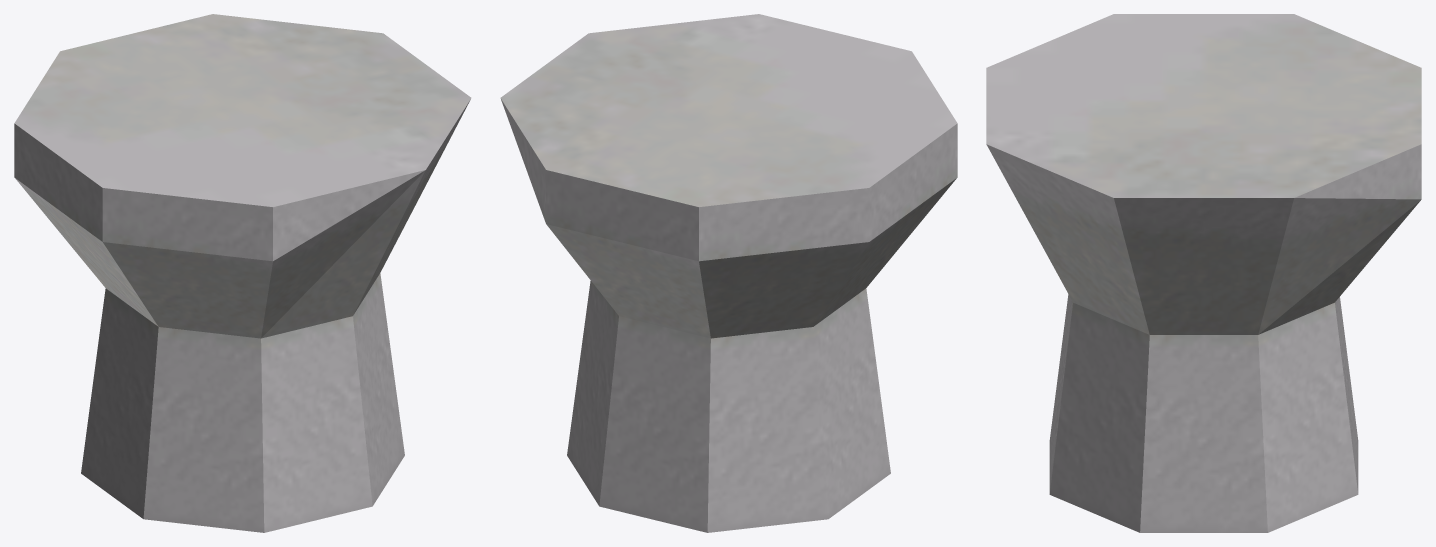
The model's file is general_obj_bigtower11_lod_01.glb.
3 renders of one model, left to right at view 1: azimuth 30°, elevation 25°; view 2: azimuth 150°, elevation 25°; view 3: azimuth 270°, elevation 25°, orthographic. The views are drawn at different scales.
Visible parts, largest first — view 1: Sphere01; view 2: Sphere01; view 3: Sphere01.
Boxes of the visible parts, left/top/right/bottom form: Sphere01: left=14, top=14, right=471, bottom=532; Sphere01: left=500, top=14, right=957, bottom=532; Sphere01: left=986, top=14, right=1421, bottom=532.
Bounding box in the file's own units: 4.31 × 3.95 × 4.31.
1 material, 1 textured.
